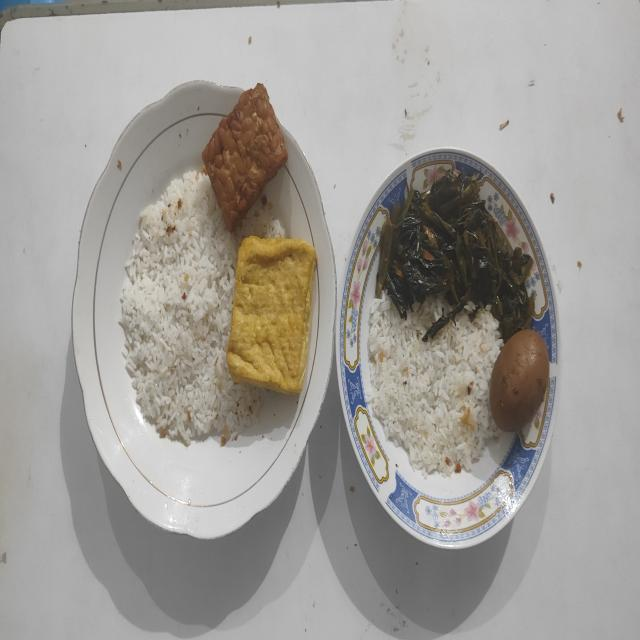nasi_putih: (121, 171, 284, 440), (364, 294, 502, 477)
tahu_goreng: (227, 236, 317, 393)
tempe_goreng: (202, 84, 288, 231)
tumis_kangkung: (376, 169, 535, 341)
